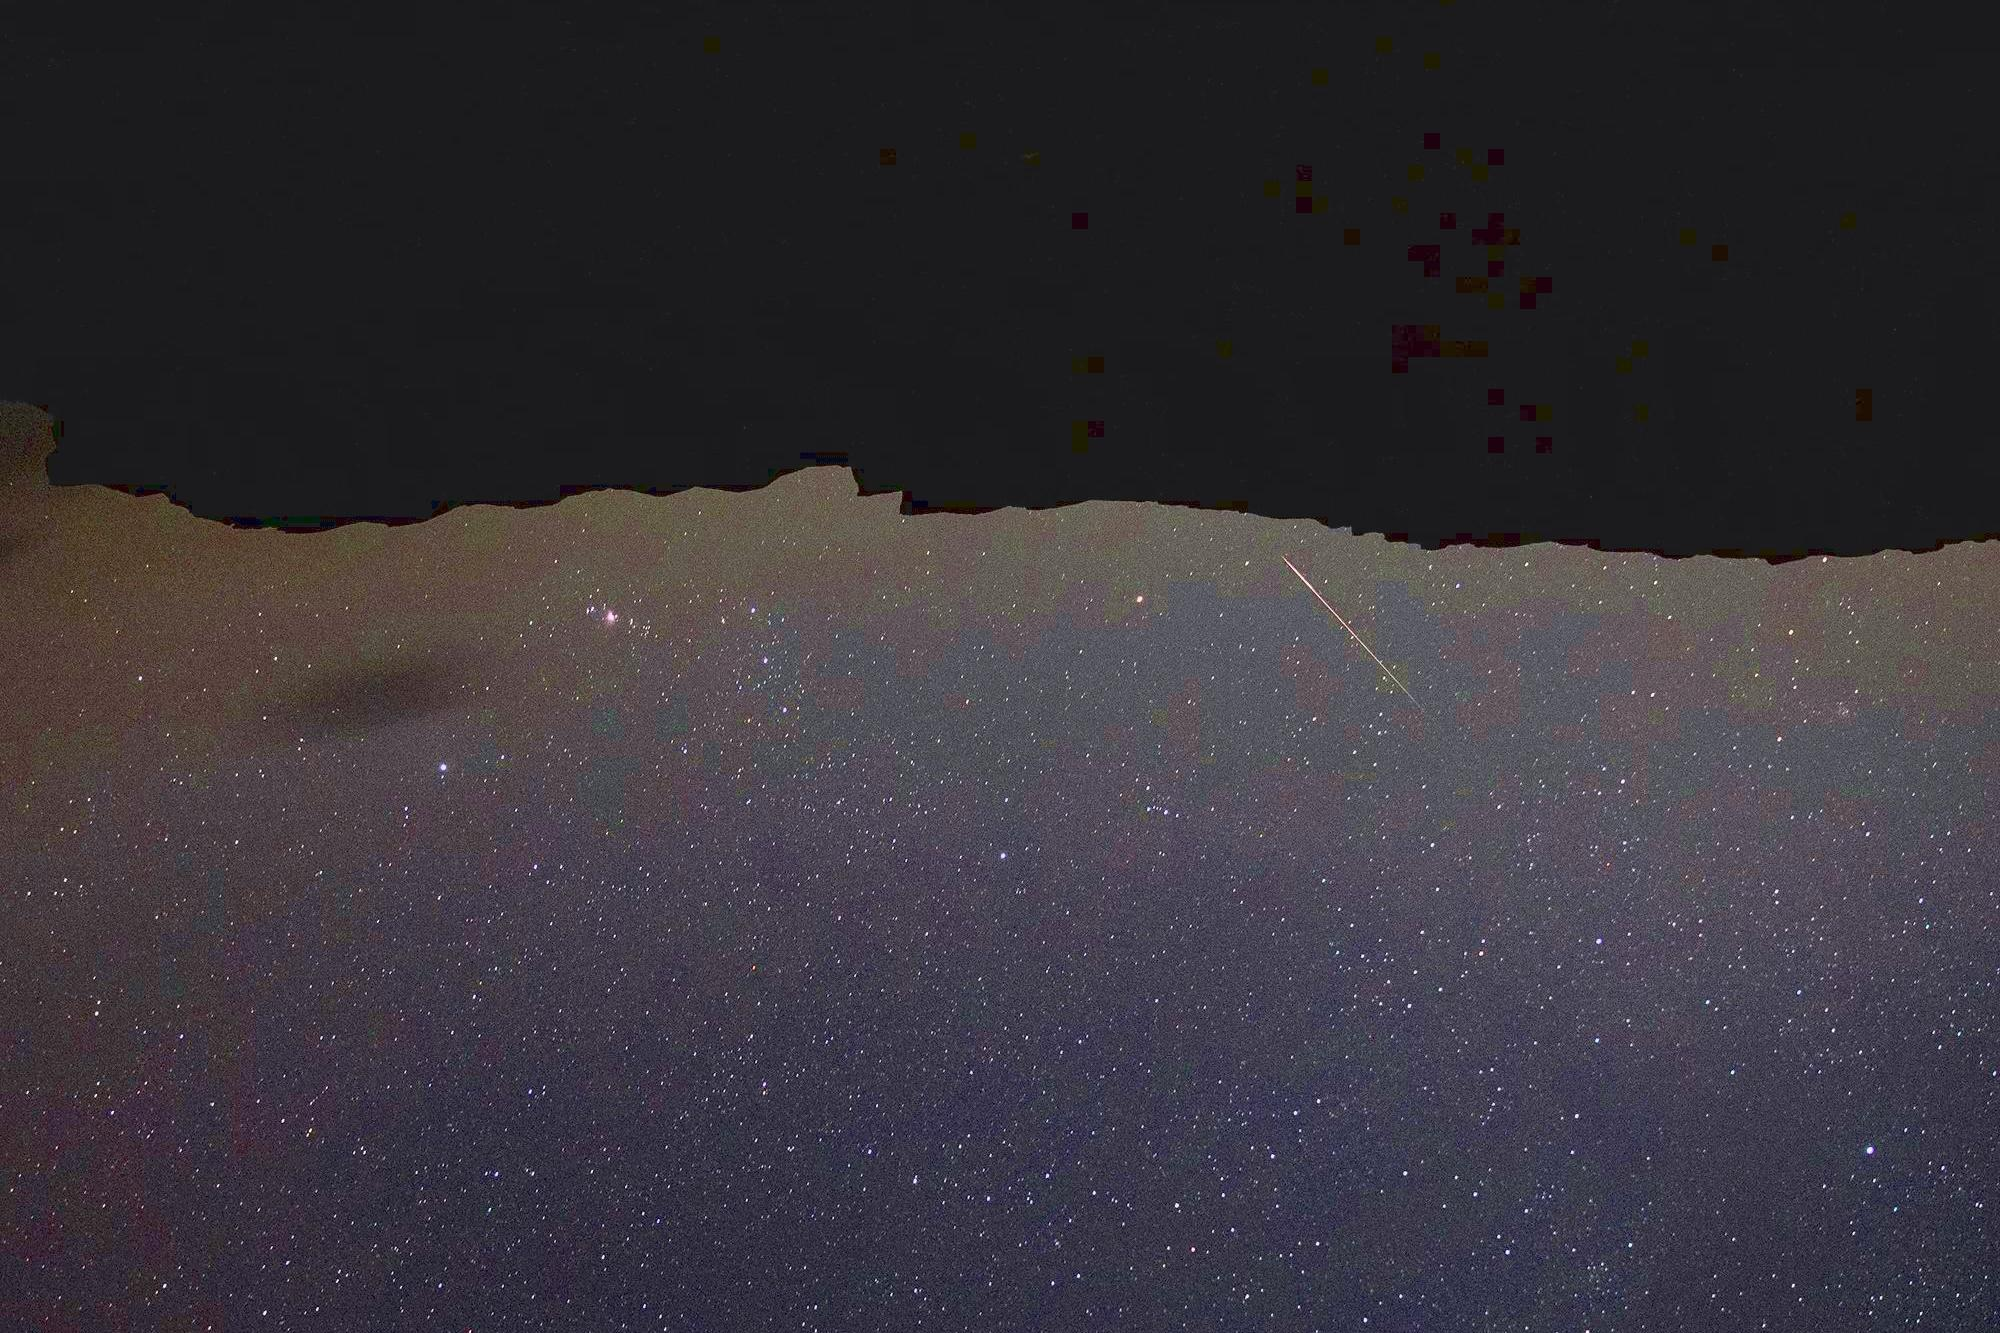meteorite: (1231, 518, 1422, 774)
